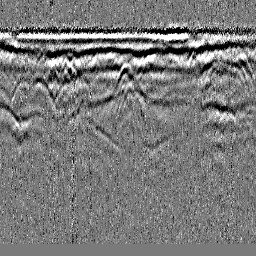cavity: (109, 61, 147, 98)
